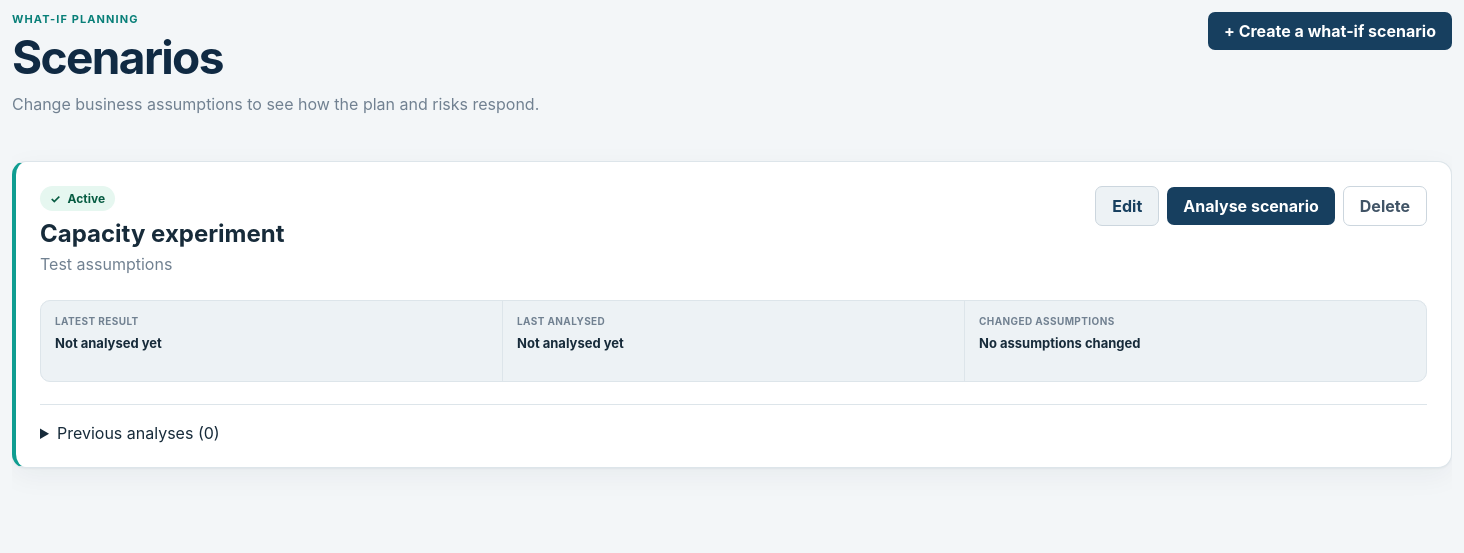
Test: ScenariosPage › shows run failures returned by the API
The image size is (1464, 553).
Click the button "Analyse scenario" at (1251, 206), box [1167,187,1335,225]
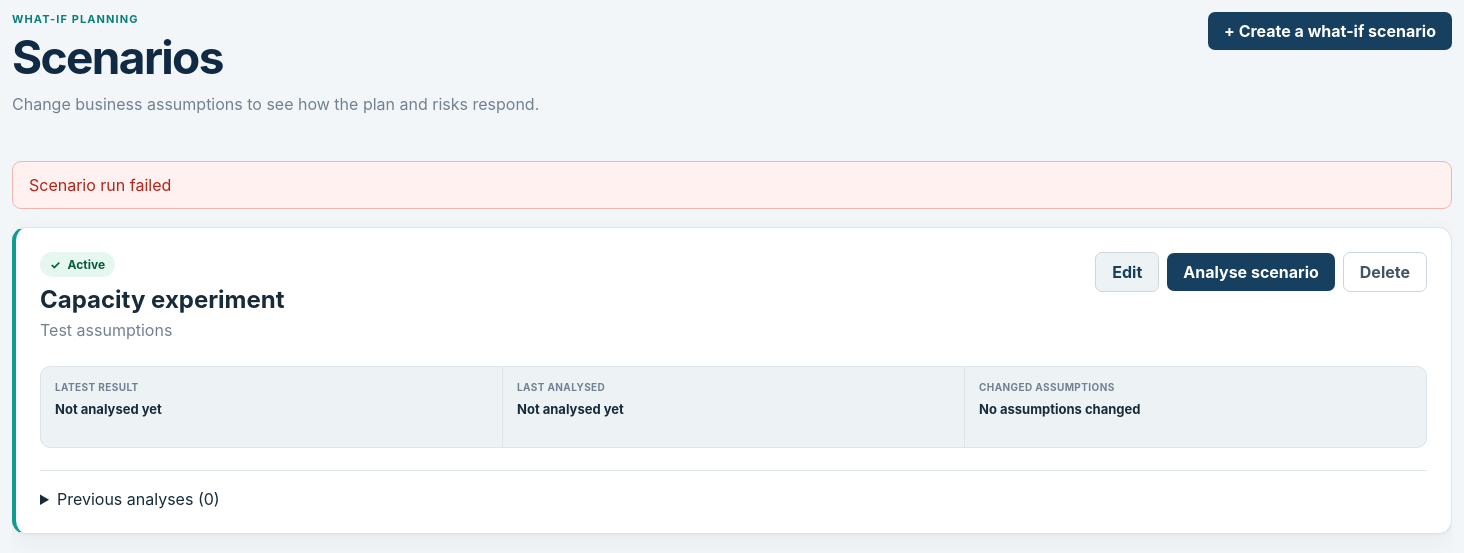
Now the message reads "Scenario run failed", box [29,175,171,195]
